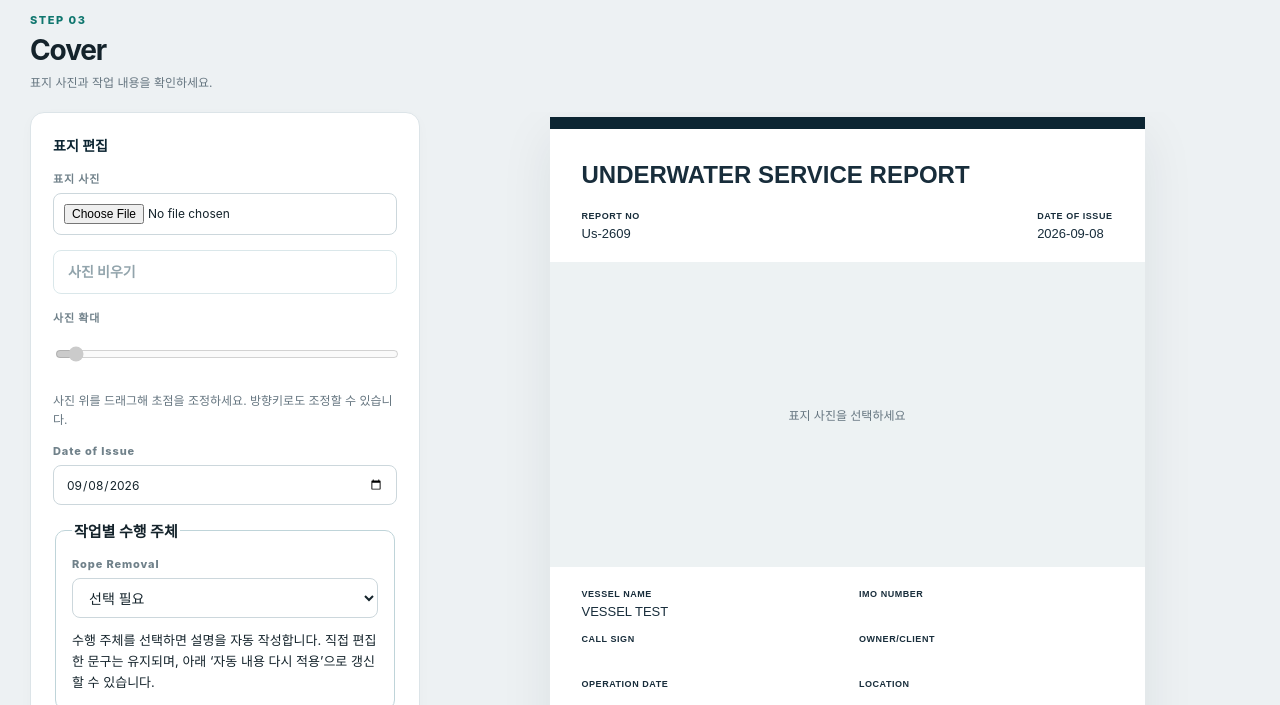
selects performers for automatic descriptions without overwriting manual wording
Select "ROV" in the dropdown named "Rope Removal 수행 주체" at (225, 598), box x1=72 y1=578 x2=378 y2=618
(page scrolled)
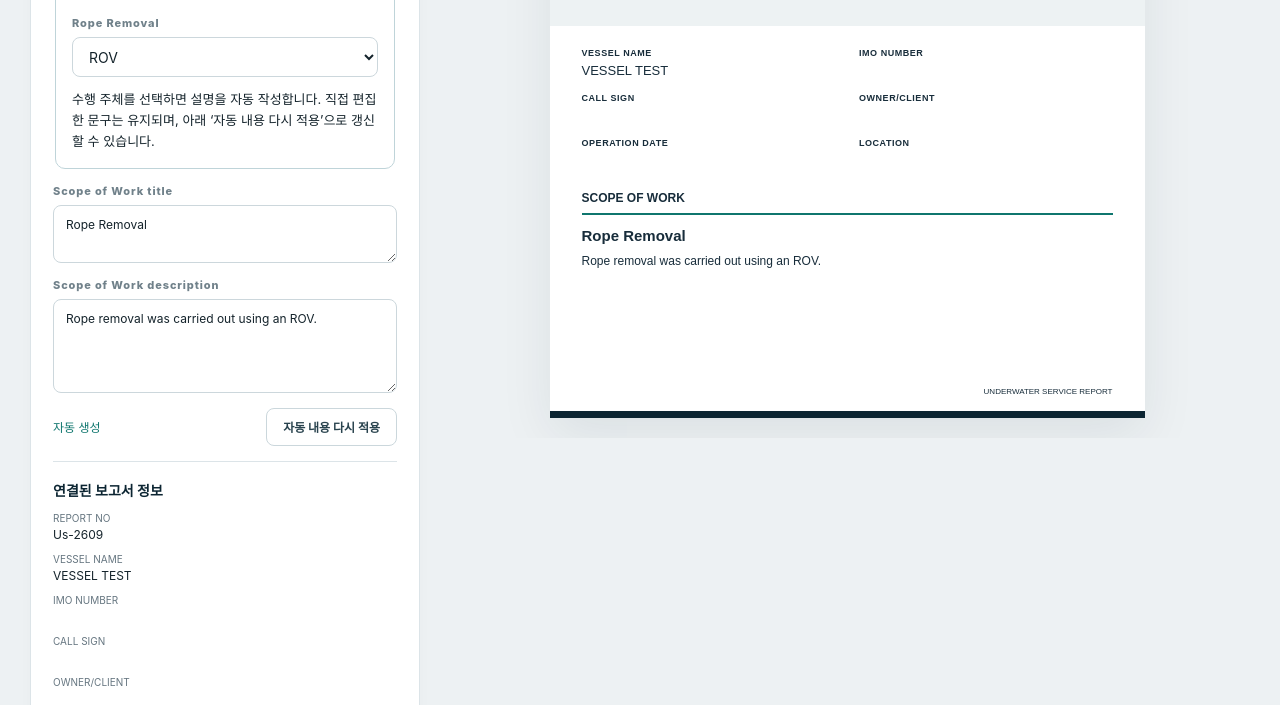
Now the text box labelled "Scope of Work description" holds "Rope removal was carried out using an ROV."
Replace the text in the text box labelled "Scope of Work description" with "Manual wording" at (225, 346), box x1=53 y1=299 x2=397 y2=393
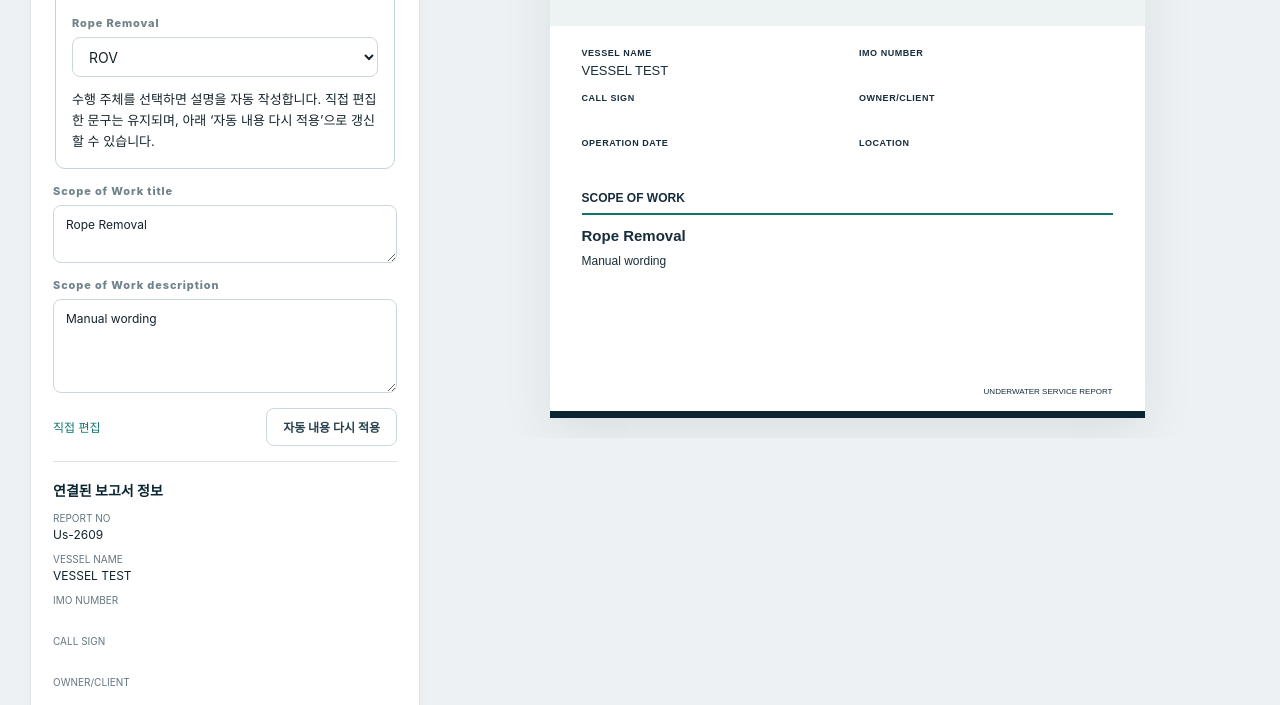
Select "Diver (다이버)" in the dropdown named "Rope Removal 수행 주체" at (225, 57), box x1=72 y1=37 x2=378 y2=77
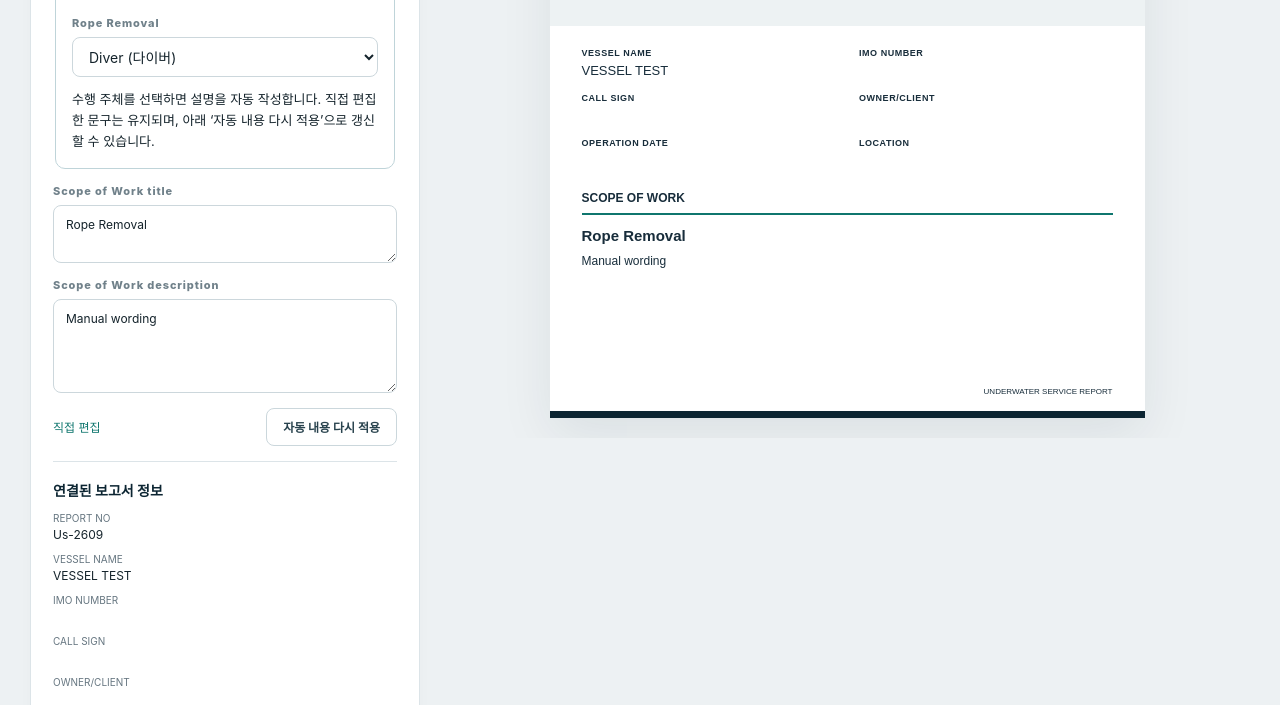
Click the button "자동 내용 다시 적용" at (332, 427), box x1=266 y1=408 x2=397 y2=446
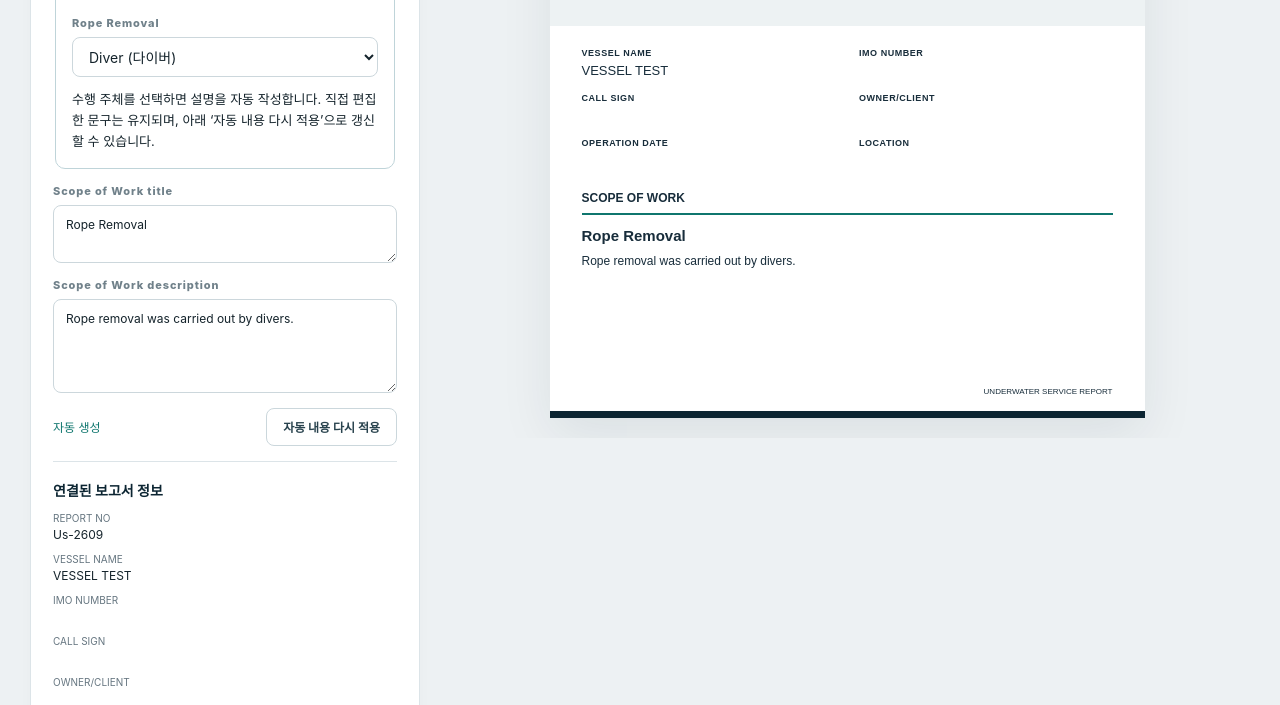
Now the text box labelled "Scope of Work description" holds "Rope removal was carried out by divers.", box x1=53 y1=299 x2=397 y2=393
